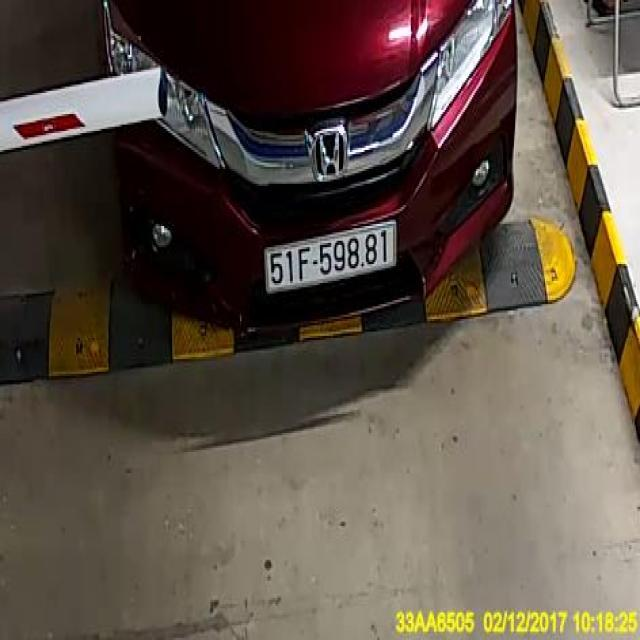bien_so_oto: (264, 219, 396, 292)
